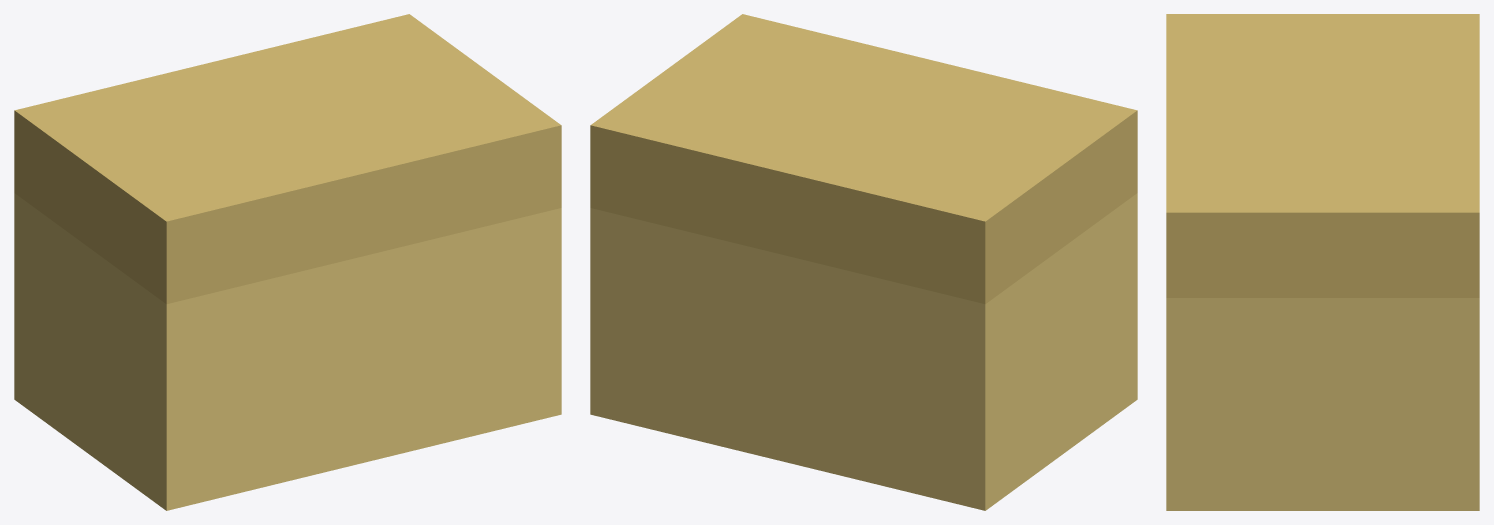
Rendered from treasure-chest.gltf.
3 renders of one model, left to right at view 1: azimuth 30°, elevation 25°; view 2: azimuth 150°, elevation 25°; view 3: azimuth 270°, elevation 25°, orthographic. The views are drawn at different scales.
Visible parts, largest first — view 1: Body, Lid; view 2: Body, Lid; view 3: Lid, Body.
Boxes of the visible parts, x1=… form: Body: x1=14, y1=193, x2=561, y2=510; Lid: x1=14, y1=14, x2=561, y2=304; Body: x1=590, y1=193, x2=1137, y2=510; Lid: x1=590, y1=14, x2=1137, y2=304; Lid: x1=1166, y1=14, x2=1479, y2=297; Body: x1=1166, y1=298, x2=1479, y2=510.
Size of the model in its own units: 0.6 by 0.42 by 0.4.
